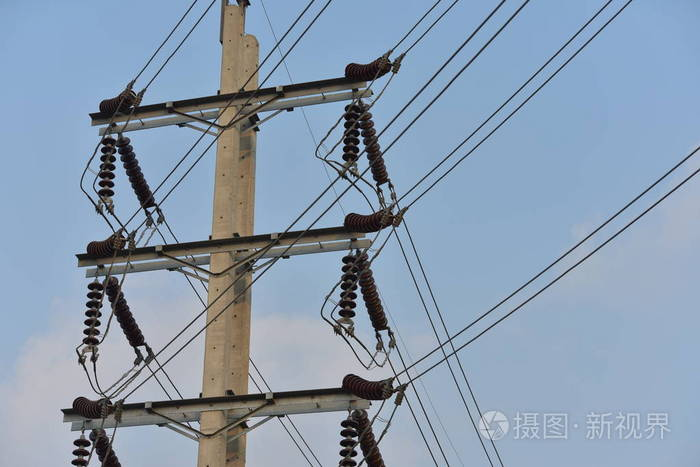insulator: (106, 278, 147, 347), (118, 138, 154, 209), (359, 104, 390, 184), (357, 256, 388, 329), (358, 410, 386, 467), (341, 374, 392, 402), (339, 56, 394, 81), (96, 137, 118, 199), (338, 256, 359, 318), (83, 281, 103, 346), (343, 210, 395, 235), (67, 395, 115, 420), (84, 233, 124, 263), (342, 103, 361, 161), (337, 418, 359, 467), (93, 432, 120, 467), (99, 91, 135, 115), (70, 438, 90, 467)
